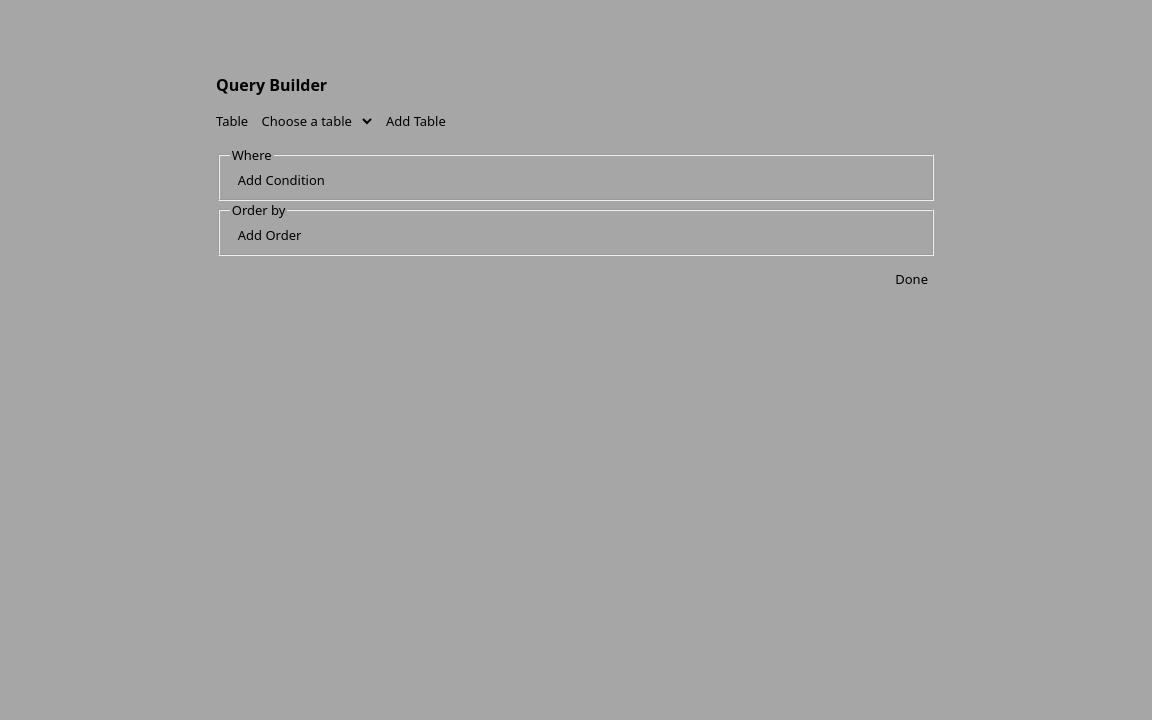
Test case: the query builder › says why a table could not be picked [DESIGN] D48
Select "STAFF" in the dropdown labelled "Table" at x=313, y=121, box [252,109,375,133]
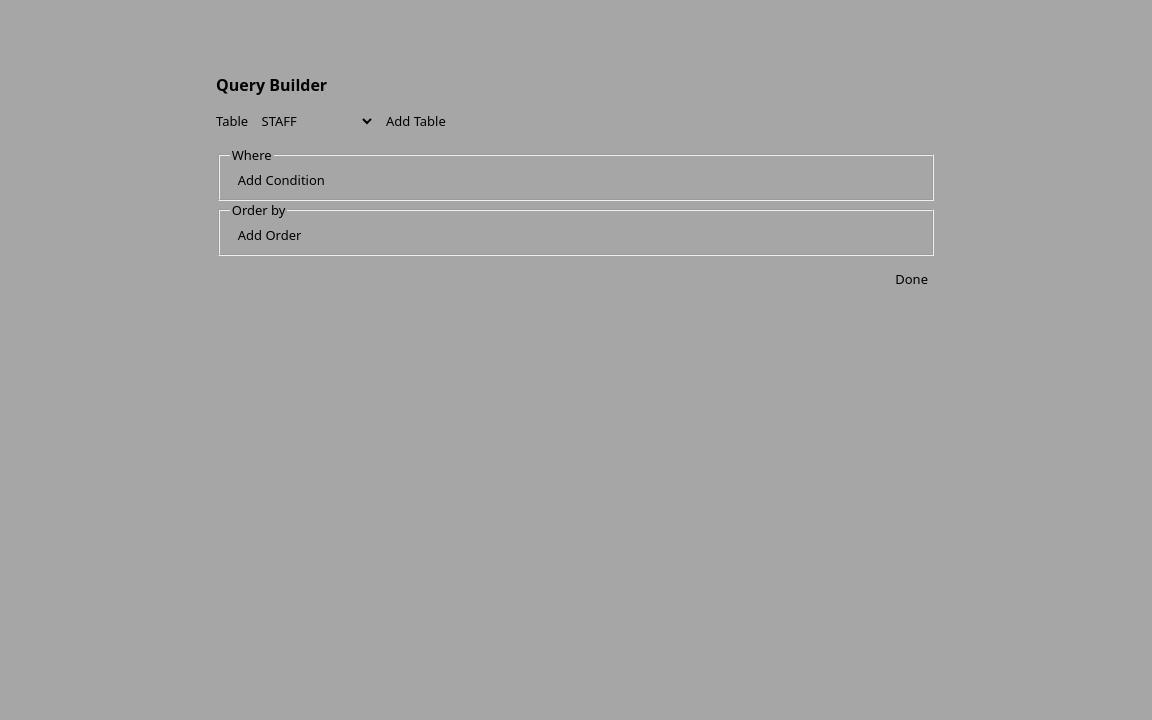
Click the button "Add Table" at x=416, y=121, box [378,110,454,132]
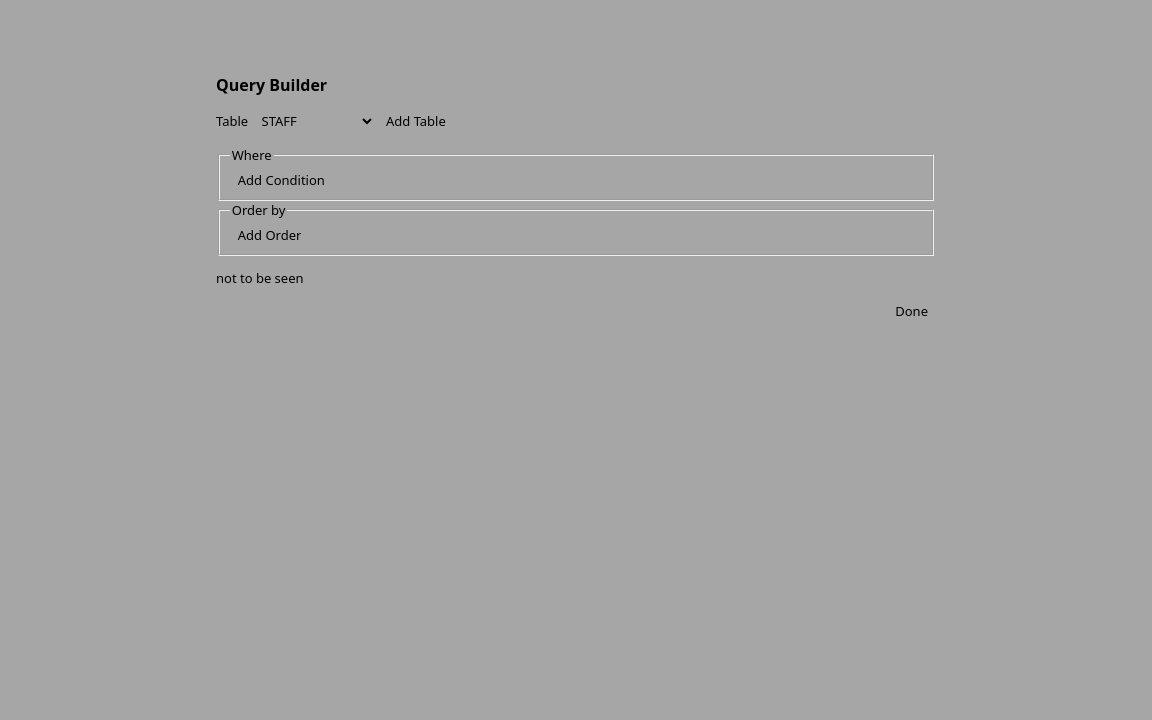
expect the text "not to be seen" is shown: met, box [216,269,304,287]
